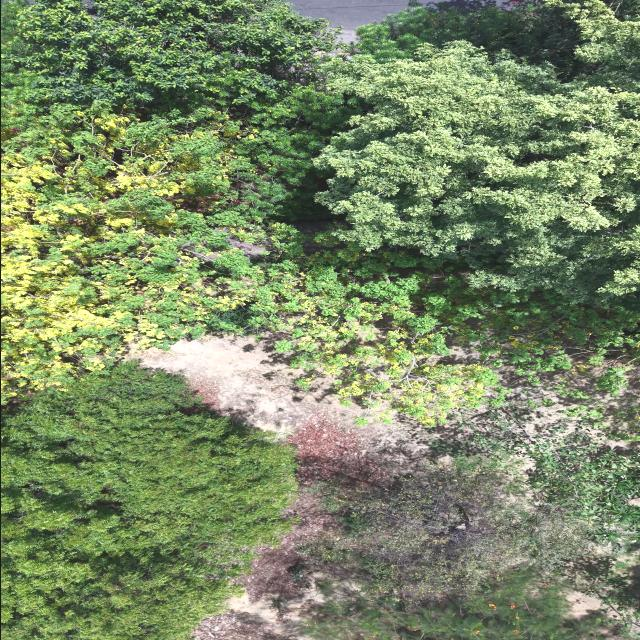DRY_AREA: (131, 336, 457, 473), (132, 336, 463, 470), (131, 336, 439, 471), (131, 335, 431, 469), (131, 336, 356, 434), (195, 488, 333, 639), (195, 495, 331, 639), (194, 594, 305, 639), (194, 594, 304, 639), (291, 0, 407, 42), (292, 0, 407, 41), (227, 593, 296, 633), (194, 610, 284, 639)
PATHWAYS: (291, 0, 407, 41)
VEGETATION_TREE: (1, 0, 639, 639), (3, 0, 638, 420), (304, 2, 639, 610), (291, 1, 639, 421), (1, 0, 348, 396), (317, 1, 639, 300), (289, 379, 639, 639), (1, 362, 296, 639), (4, 0, 352, 217), (299, 458, 637, 639), (300, 459, 590, 600), (4, 0, 331, 118), (463, 384, 639, 547), (301, 574, 608, 639), (350, 1, 581, 74), (529, 432, 639, 543)
